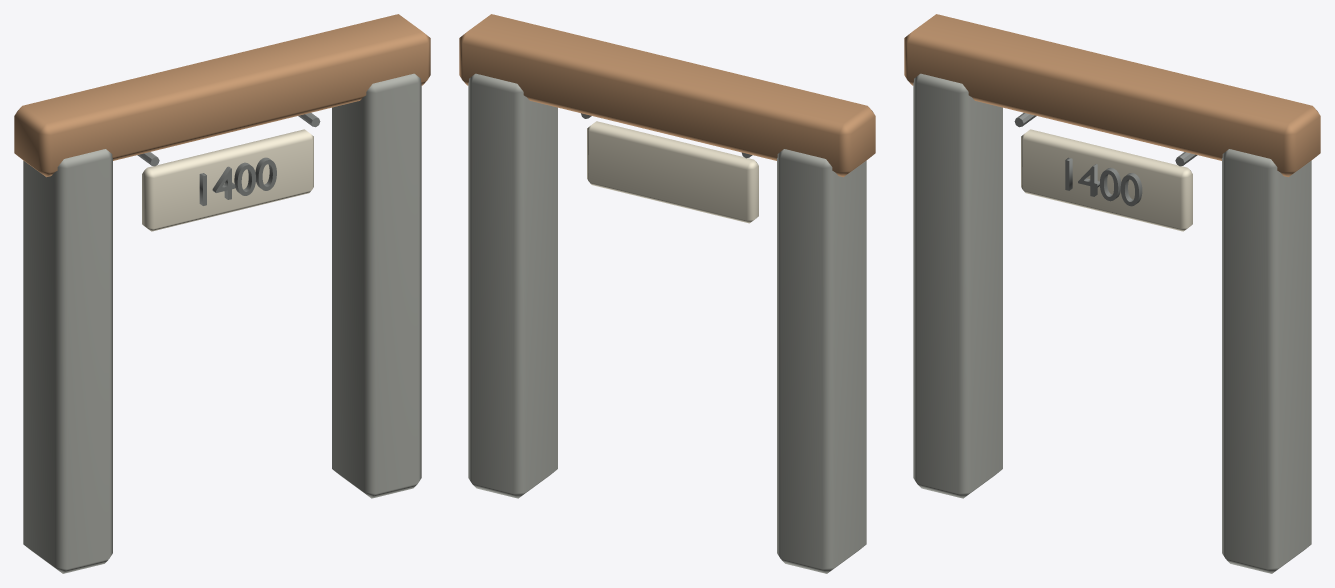
Rendered from MYB96_SummitArchMarker.fbx.
3 views of the same model, side by side, from view 1: azimuth 30°, elevation 25°; view 2: azimuth 150°, elevation 25°; view 3: azimuth 330°, elevation 25° (orthographic).
Visible parts, largest first — view 1: left_pillar, right_pillar, wood_beam, hanging_sign, summit_text_Mesh; view 2: left_pillar, right_pillar, wood_beam, hanging_sign; view 3: right_pillar, left_pillar, wood_beam, hanging_sign, summit_text_Mesh.
Boxes of the visible parts, x1,y1,x2,y2 form: left_pillar: [23, 149, 112, 573]; right_pillar: [332, 73, 421, 498]; wood_beam: [14, 14, 430, 177]; hanging_sign: [142, 129, 313, 231]; summit_text_Mesh: [199, 157, 276, 205]; left_pillar: [777, 149, 866, 573]; right_pillar: [468, 73, 557, 498]; wood_beam: [459, 14, 875, 177]; hanging_sign: [587, 121, 758, 223]; right_pillar: [1222, 149, 1311, 573]; left_pillar: [913, 73, 1002, 498]; wood_beam: [904, 14, 1320, 177]; hanging_sign: [1021, 129, 1192, 231]; summit_text_Mesh: [1065, 157, 1142, 206].
Bounding box in the file's own units: 122 × 134 × 22.
